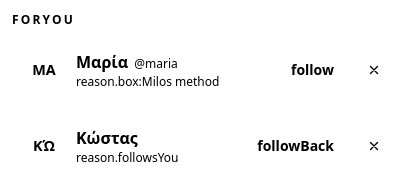
FindFollowSuggestions › lists each person with one reason and follows through the suggestion
Expected: the text "reason.box:Milos method" is shown, [76,74,219,90]
Expected: the text "reason.followsYou" is shown, [76,150,178,166]
Click the button "follow". click: (312, 70)
box: [275,48,350,92]
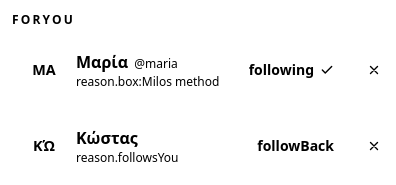
Expected: the text "following" is shown, [249,60,334,80]
